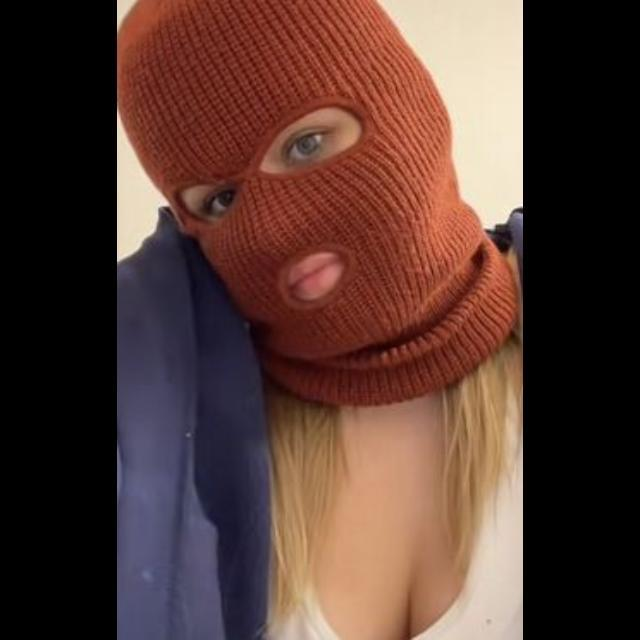criminal: (116, 0, 525, 640)
